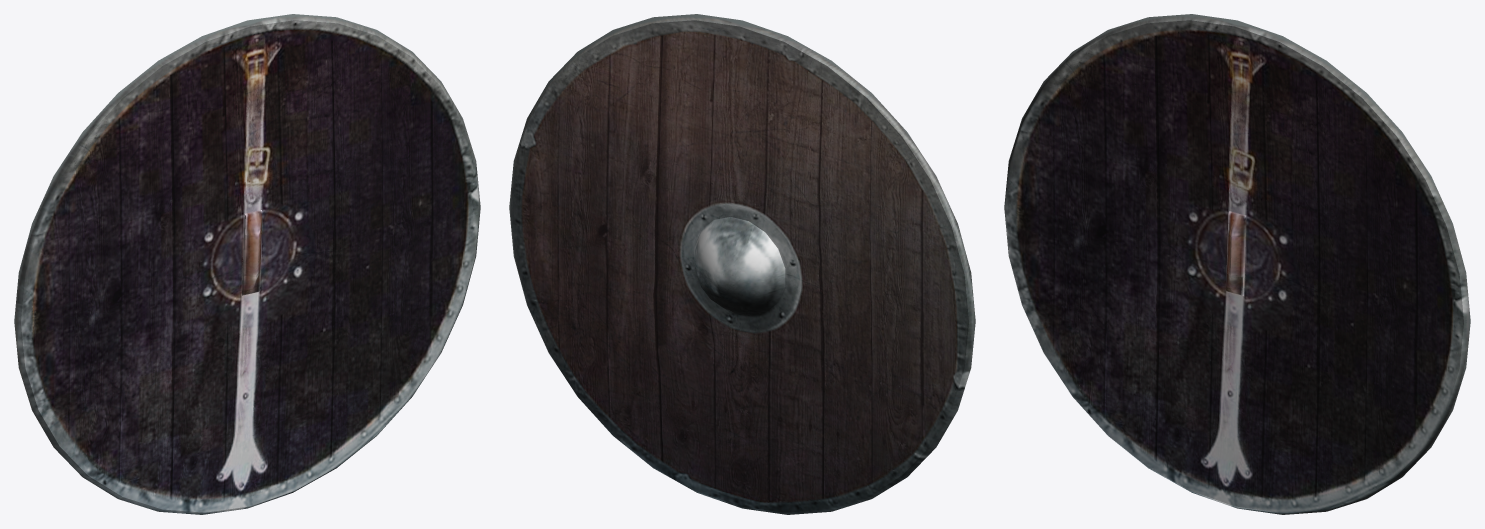
The model's file is Roundshield_LOD01.fbx.
3 views of the same model, side by side, from view 1: azimuth 30°, elevation 25°; view 2: azimuth 150°, elevation 25°; view 3: azimuth 330°, elevation 25° (orthographic).
Parts seen in each view (by area): view 1: Mesh Object; view 2: Mesh Object; view 3: Mesh Object.
Boxes of the visible parts, left/top/right/bottom form: Mesh Object: left=14, top=14, right=480, bottom=514; Mesh Object: left=509, top=14, right=975, bottom=514; Mesh Object: left=1004, top=14, right=1470, bottom=514.
Bounding box in the file's own units: 1 × 1 × 0.1177.
